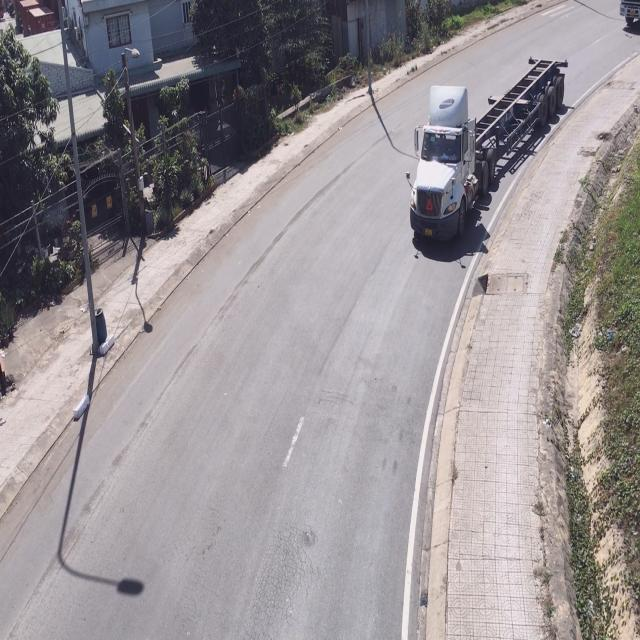truck: (406, 60, 569, 247), (620, 0, 640, 34)
